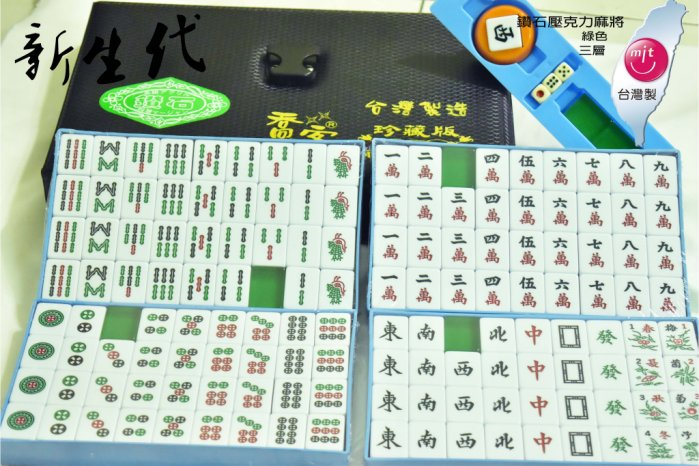1W: (375, 266, 410, 306), (374, 183, 406, 224), (378, 145, 408, 183), (381, 227, 403, 263)
1i: (322, 226, 353, 269), (322, 185, 354, 226), (321, 269, 350, 308), (327, 145, 354, 184)
1o: (23, 335, 60, 368), (16, 370, 55, 401), (35, 302, 65, 332), (8, 404, 37, 433)
2W: (407, 223, 443, 269), (406, 183, 441, 226), (410, 148, 441, 187), (415, 269, 435, 305)
2i: (286, 225, 318, 268), (290, 184, 320, 227), (286, 266, 315, 307), (295, 144, 324, 184)
2o: (44, 407, 77, 437), (53, 374, 87, 403), (59, 337, 86, 369), (74, 306, 96, 333)
3W: (442, 268, 475, 304), (446, 189, 471, 224), (449, 230, 470, 268)
3i: (258, 183, 290, 225), (255, 224, 286, 263), (262, 144, 292, 180)
3o: (87, 371, 125, 406), (82, 406, 117, 442), (94, 338, 127, 371)
4W: (477, 228, 509, 268), (476, 189, 506, 225), (479, 270, 505, 309), (479, 150, 502, 186)
4i: (223, 182, 255, 225), (216, 261, 247, 305), (219, 223, 253, 261), (229, 141, 258, 182)
4o: (127, 373, 159, 405), (117, 409, 153, 435), (140, 310, 172, 338), (136, 343, 166, 371)
5W: (507, 183, 546, 233), (514, 272, 549, 307), (515, 151, 540, 188), (516, 232, 538, 267)
5i: (182, 262, 214, 305), (186, 221, 218, 263), (190, 180, 222, 221), (195, 140, 224, 181)
5o: (158, 408, 192, 440), (165, 376, 197, 407), (175, 311, 208, 339), (172, 346, 201, 375)
6W: (545, 267, 579, 310), (538, 154, 572, 188), (545, 234, 573, 272), (546, 192, 572, 228)
6i: (161, 139, 192, 179), (148, 263, 179, 303), (159, 180, 188, 220), (153, 221, 182, 261)
6o: (194, 410, 226, 443), (200, 378, 231, 410), (212, 310, 242, 343), (206, 344, 236, 376)
7W: (578, 192, 611, 230), (577, 232, 609, 269), (582, 155, 607, 188), (588, 276, 610, 312)
7i: (121, 218, 148, 260), (125, 178, 153, 215), (129, 139, 155, 177), (119, 262, 142, 301)
7o: (234, 378, 268, 410), (230, 409, 262, 443), (242, 345, 273, 380), (247, 311, 276, 344)
8W: (610, 155, 642, 191), (615, 195, 644, 229), (617, 235, 642, 273), (618, 278, 645, 312)
8i: (80, 260, 110, 302), (96, 137, 123, 178), (86, 218, 113, 256), (93, 178, 119, 216)
8o: (279, 345, 306, 378), (281, 314, 309, 344), (273, 414, 300, 445), (279, 380, 304, 410)
9W: (648, 233, 678, 273), (646, 192, 675, 232), (652, 278, 681, 315), (650, 158, 674, 191)
9i: (49, 216, 80, 257), (46, 259, 75, 301), (60, 136, 89, 173), (59, 176, 84, 215)
9o: (314, 346, 347, 380), (308, 414, 341, 445), (316, 315, 347, 344), (313, 381, 344, 409)
East: (375, 421, 404, 455), (376, 316, 406, 347), (375, 348, 404, 380), (376, 386, 405, 417)
Green: (601, 392, 631, 428), (605, 428, 636, 460), (593, 321, 623, 353), (596, 355, 625, 388)
North: (484, 416, 526, 456), (486, 354, 517, 384), (486, 323, 512, 348), (490, 390, 513, 415)
Red: (528, 417, 560, 457), (522, 352, 550, 389), (528, 388, 559, 421), (520, 322, 544, 347)
South: (408, 387, 442, 417), (414, 423, 443, 453), (410, 353, 440, 381), (413, 320, 440, 348)
West: (448, 387, 479, 417), (448, 356, 478, 383), (453, 423, 479, 453)
White: (556, 353, 591, 389), (564, 424, 600, 459), (561, 388, 594, 424), (554, 321, 585, 355)
